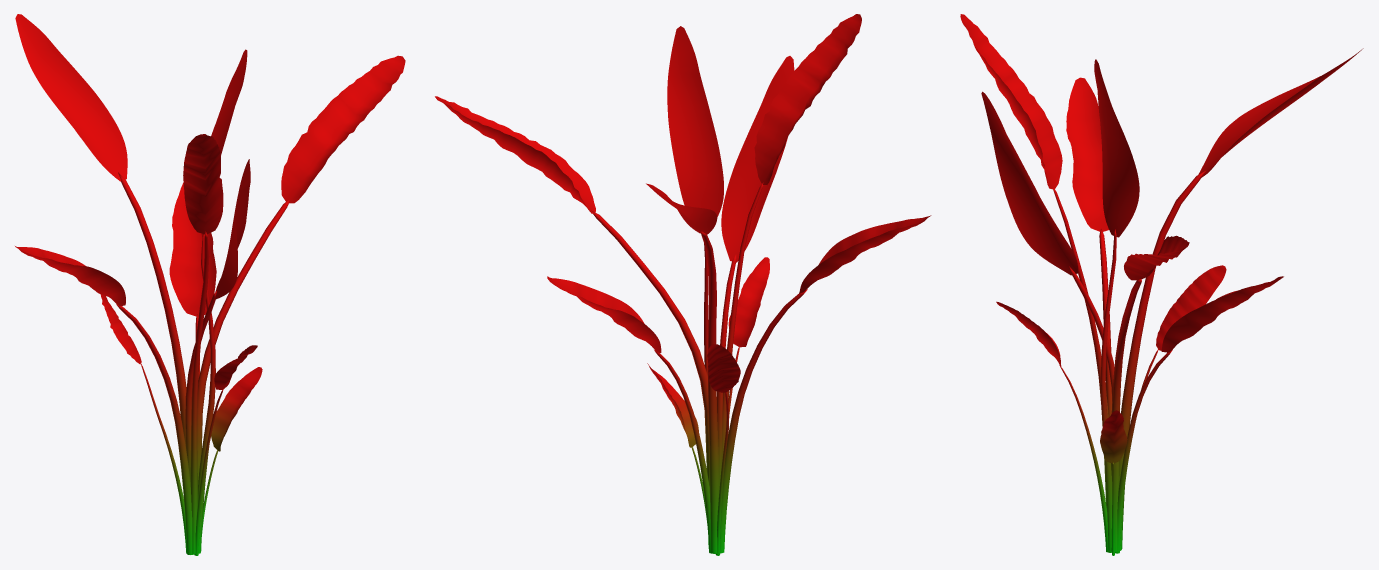
Rendered from Bird Of Paradise_LOD2_Var11_wfypeifha.fbx.
The picture shows the model from 3 angles, left to right: view 1: azimuth 30°, elevation 25°; view 2: azimuth 150°, elevation 25°; view 3: azimuth 270°, elevation 25°; orthographic projection. The views are drawn at different scales.
Visible parts, largest first — view 1: _jqew_Var11_LOD2; view 2: _jqew_Var11_LOD2; view 3: _jqew_Var11_LOD2.
Part boxes in pixels (x1,y1,x2,y2): _jqew_Var11_LOD2: (15, 14, 405, 555); _jqew_Var11_LOD2: (435, 14, 931, 555); _jqew_Var11_LOD2: (960, 14, 1363, 555).
Bounding box in the file's own units: 158 × 173 × 123.
